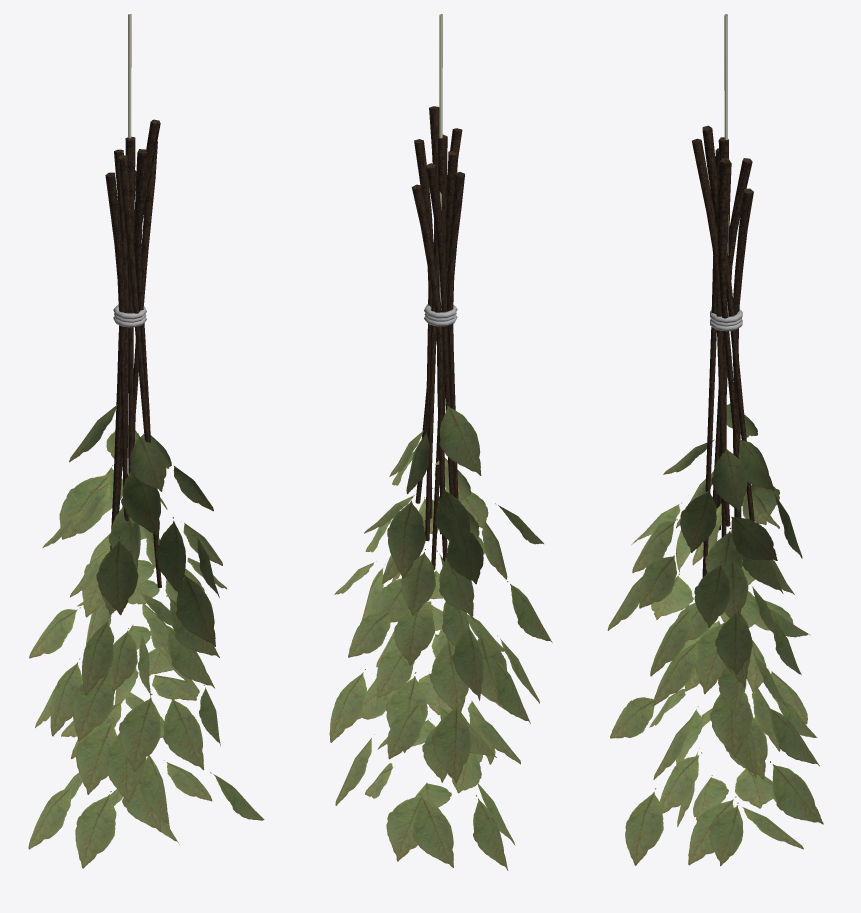
Rendered from SM_Herbs_Hanging_02.fbx.
3 views of the same model, side by side, from view 1: azimuth 30°, elevation 25°; view 2: azimuth 150°, elevation 25°; view 3: azimuth 270°, elevation 25° (orthographic).
Visible parts, largest first — view 1: SM_Herbs_Hanging_03; view 2: SM_Herbs_Hanging_03; view 3: SM_Herbs_Hanging_03.
Boxes of the visible parts, left/top/right/bottom form: SM_Herbs_Hanging_03: left=28, top=14, right=264, bottom=868; SM_Herbs_Hanging_03: left=329, top=14, right=552, bottom=870; SM_Herbs_Hanging_03: left=607, top=14, right=823, bottom=866.
Size of the model in its own units: 22.57 by 88.71 by 23.57.
2 materials, 1 textured.
